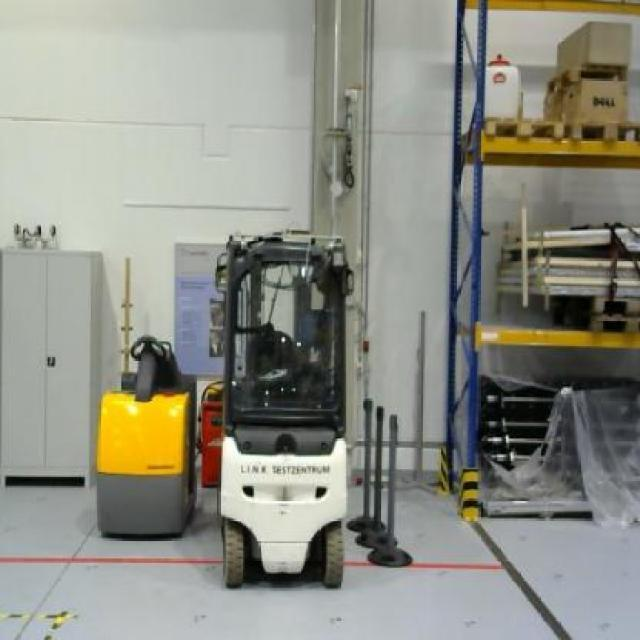box: (544, 80, 628, 128), (556, 19, 630, 72)
